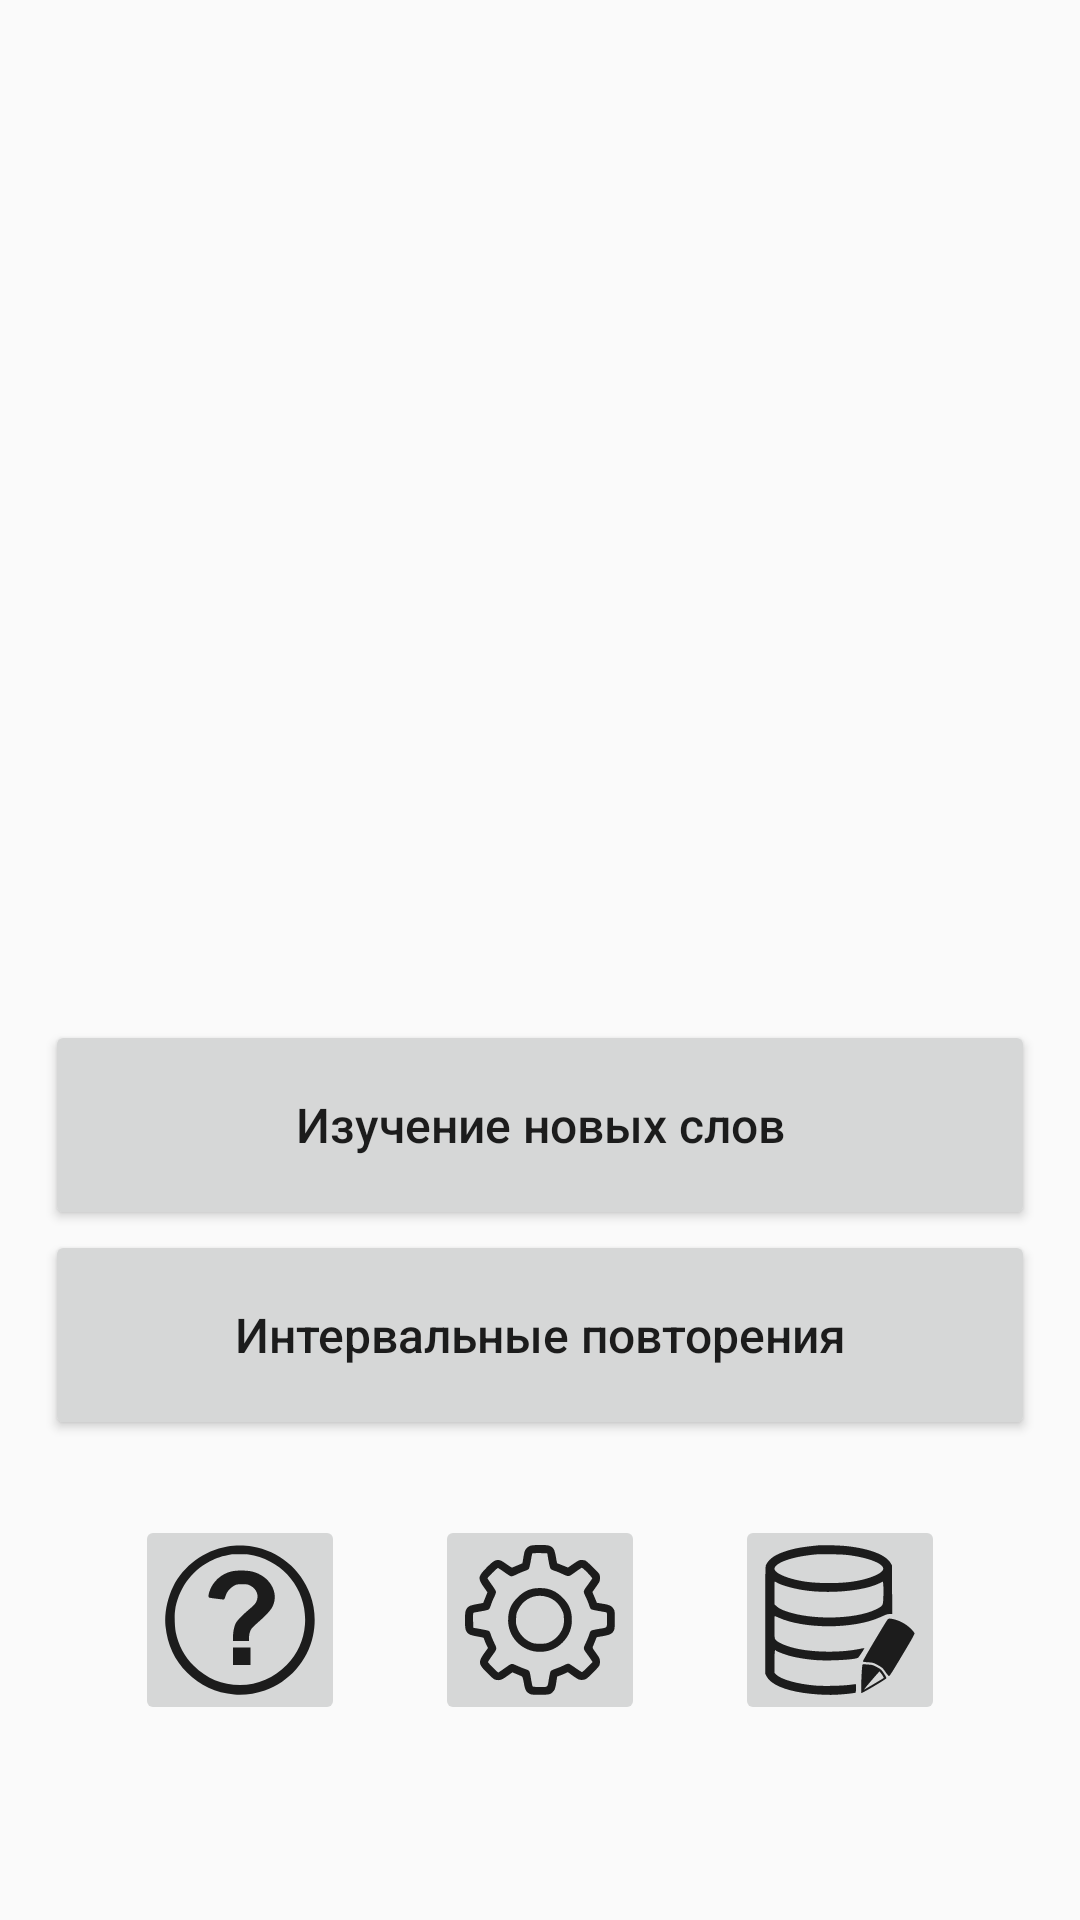

Icon click points for this 1080px x 1920px phone screenshot, format (x=x, y=y):
editdb: (x=840, y=1620)
help: (x=240, y=1620)
settings: (x=540, y=1620)
